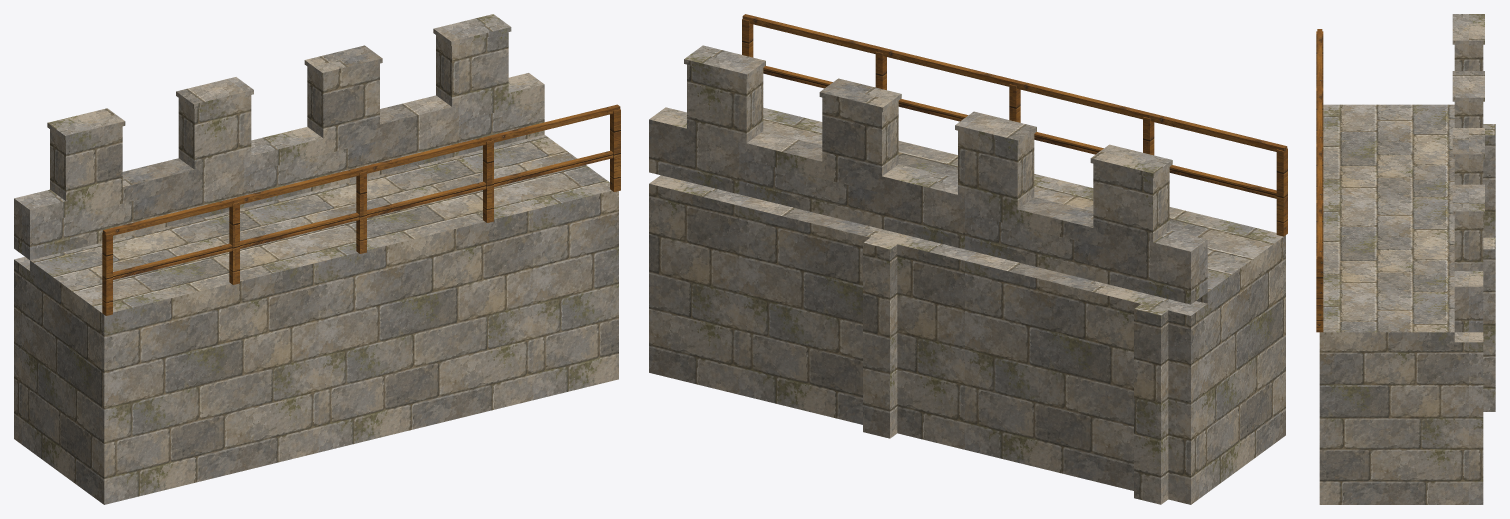
The model's file is castle-curtain-6.gltf.
3 renders of one model, left to right at view 1: azimuth 30°, elevation 25°; view 2: azimuth 150°, elevation 25°; view 3: azimuth 270°, elevation 25°, orthographic. The views are drawn at different scales.
Parts seen in each view (by area): view 1: curtain-L0-stone, walkway-L1-stone, guards-L1-wood; view 2: curtain-L0-stone, guards-L1-wood, walkway-L1-stone; view 3: curtain-L0-stone, walkway-L1-stone, guards-L1-wood.
Part boxes in pixels (x1,y1,x2,y2): curtain-L0-stone: (14,14,618,504); walkway-L1-stone: (30,134,618,325); guards-L1-wood: (102,104,620,315); curtain-L0-stone: (649,45,1285,504); guards-L1-wood: (742,14,1287,236); walkway-L1-stone: (763,107,1285,303); curtain-L0-stone: (1319,14,1495,504); walkway-L1-stone: (1319,104,1454,342); guards-L1-wood: (1316,29,1323,332).
Bounding box in the file's own units: 6 × 3.42 × 2.
Materials: 2 (2 with a texture image).
